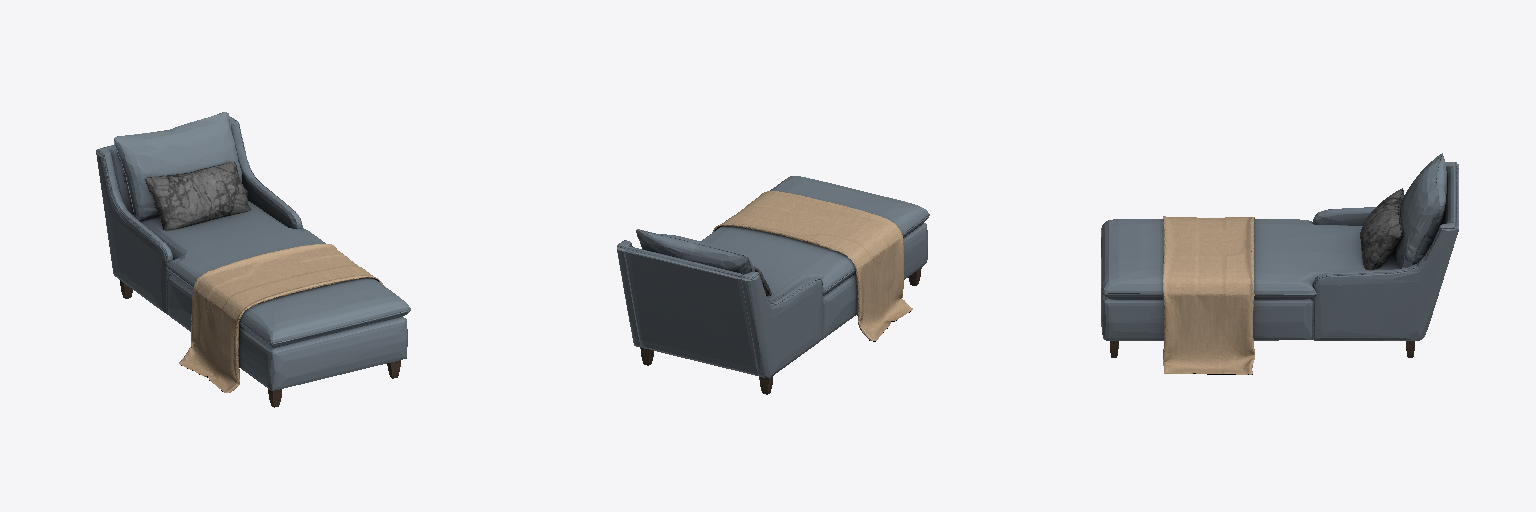
3 renders of one model, left to right at view 1: azimuth 30°, elevation 25°; view 2: azimuth 150°, elevation 25°; view 3: azimuth 270°, elevation 25°, orthographic.
Visible parts, largest first — view 1: solid_001, solid_003, solid_004, solid_002; view 2: solid_001, solid_003; view 3: solid_001, solid_003, solid_004.
Boxes of the visible parts, <box> form: solid_001: <box>96,112,410,390</box>; solid_003: <box>179,244,382,392</box>; solid_004: <box>146,162,250,230</box>; solid_002: <box>120,280,400,407</box>; solid_001: <box>617,176,929,377</box>; solid_003: <box>712,191,912,340</box>; solid_001: <box>1101,153,1458,340</box>; solid_003: <box>1163,216,1254,374</box>; solid_004: <box>1360,188,1404,269</box>.
Bounding box in the file's own units: 1.15 × 0.8115 × 1.87.
Materials: 1 (1 with a texture image).